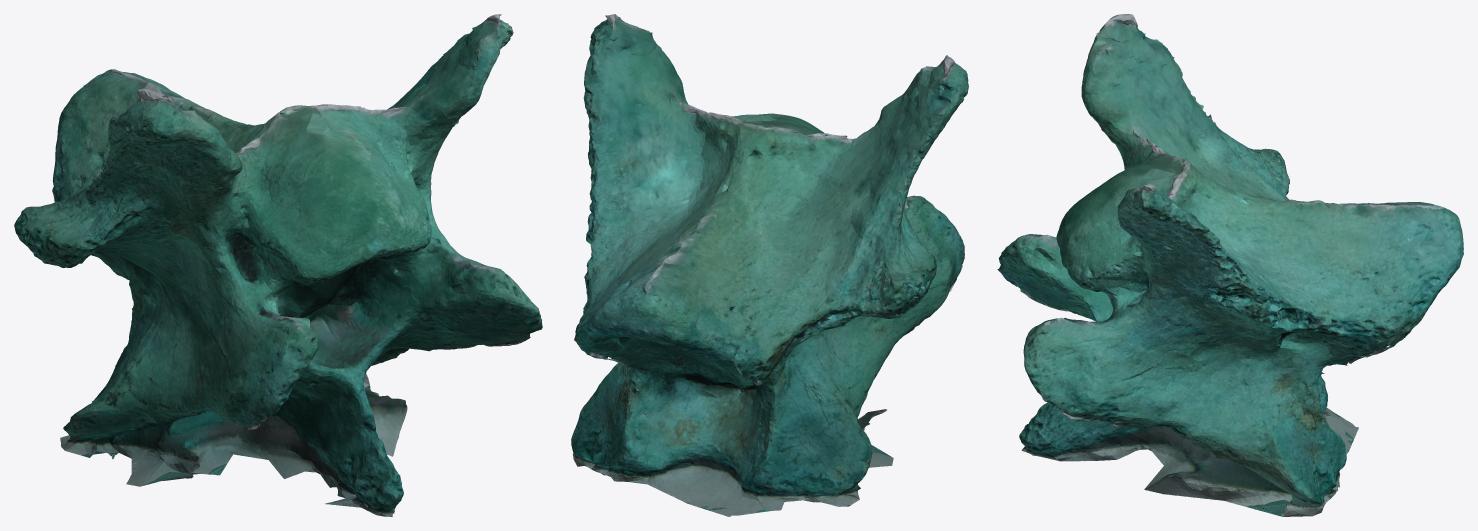
3 renders of one model, left to right at view 1: azimuth 30°, elevation 25°; view 2: azimuth 150°, elevation 25°; view 3: azimuth 270°, elevation 25°, orthographic. The views are drawn at different scales.
Size of the model in its own units: 0.1011 by 0.1 by 0.1129.
1 material, 1 textured.
